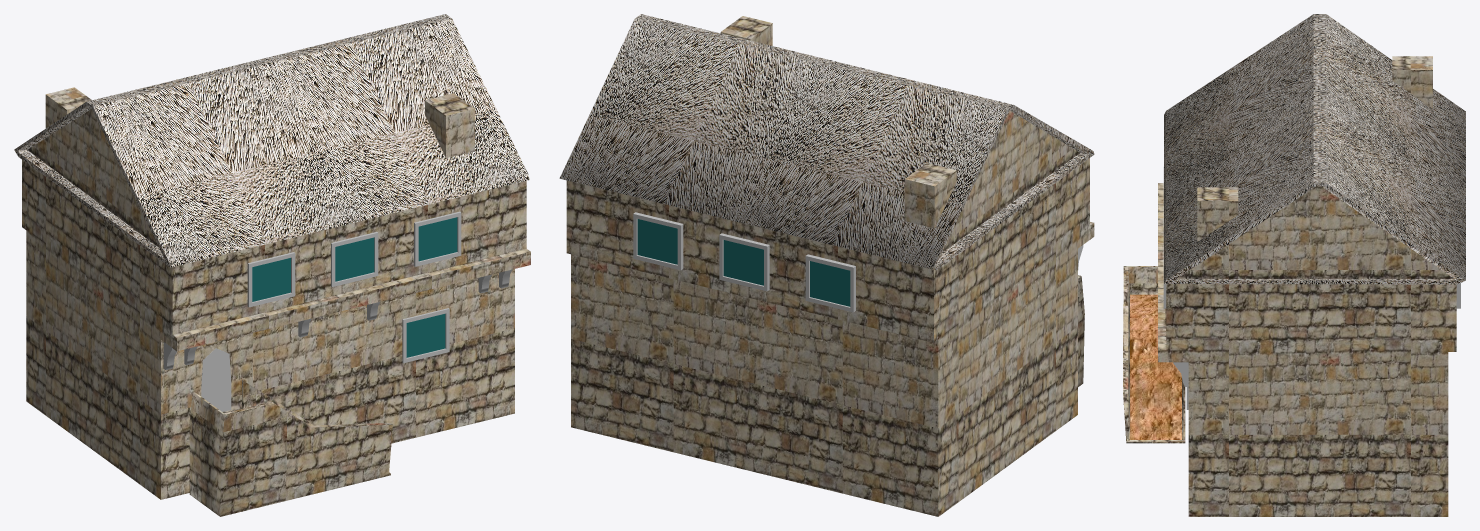
File: Maison2 (2).FBX
The picture shows the model from 3 angles, left to right: view 1: azimuth 30°, elevation 25°; view 2: azimuth 150°, elevation 25°; view 3: azimuth 270°, elevation 25°; orthographic projection. The views are drawn at different scales.
Visible parts, largest first — view 1: ArcaneShop; view 2: ArcaneShop; view 3: ArcaneShop.
Boxes of the visible parts, x1,y1,x2,y2 form: ArcaneShop: [14, 14, 530, 516]; ArcaneShop: [559, 14, 1094, 516]; ArcaneShop: [1123, 14, 1465, 516].
Size of the model in its own units: 560 by 517 by 479.
